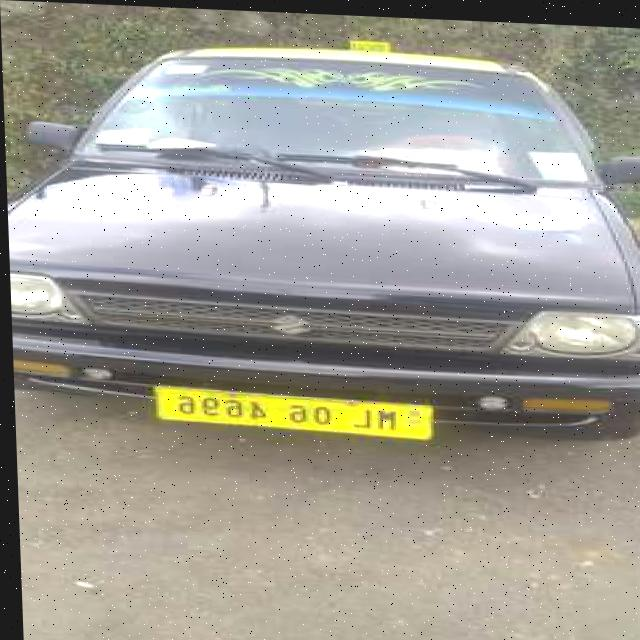plate: (147, 377, 435, 442)
